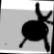not correct: (14, 3, 54, 53)
